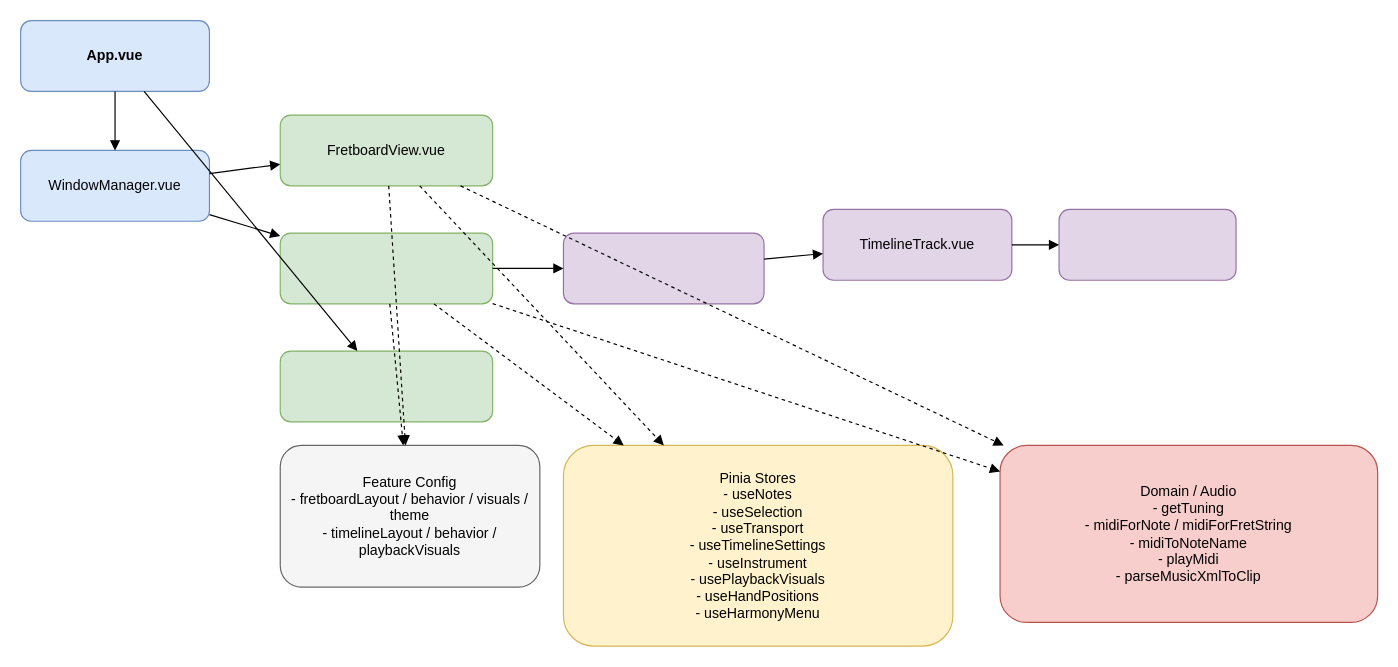
This 1398x667 diagram has some shape labels left out. The centre of each missing label's shape, as x and y in pixels:
NoteEvent.vue: point (1147, 244)
Timeline (Container): point (386, 268)
TimelineView.vue: point (663, 268)
TransportBar.vue: point (386, 386)
